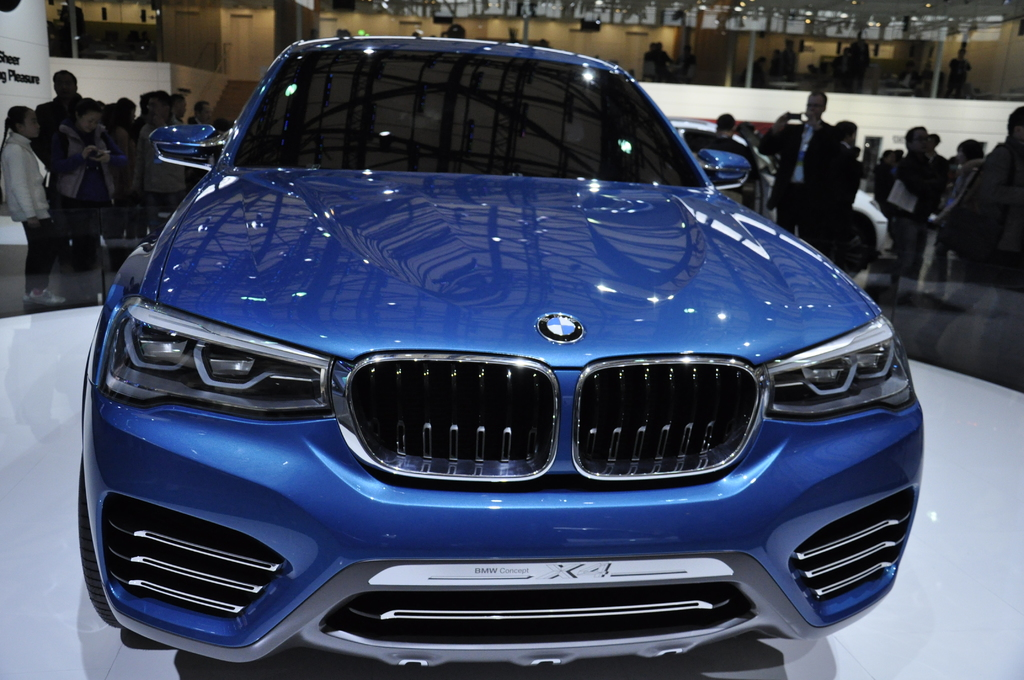Person: (708, 106, 1024, 361), (0, 60, 216, 299)
